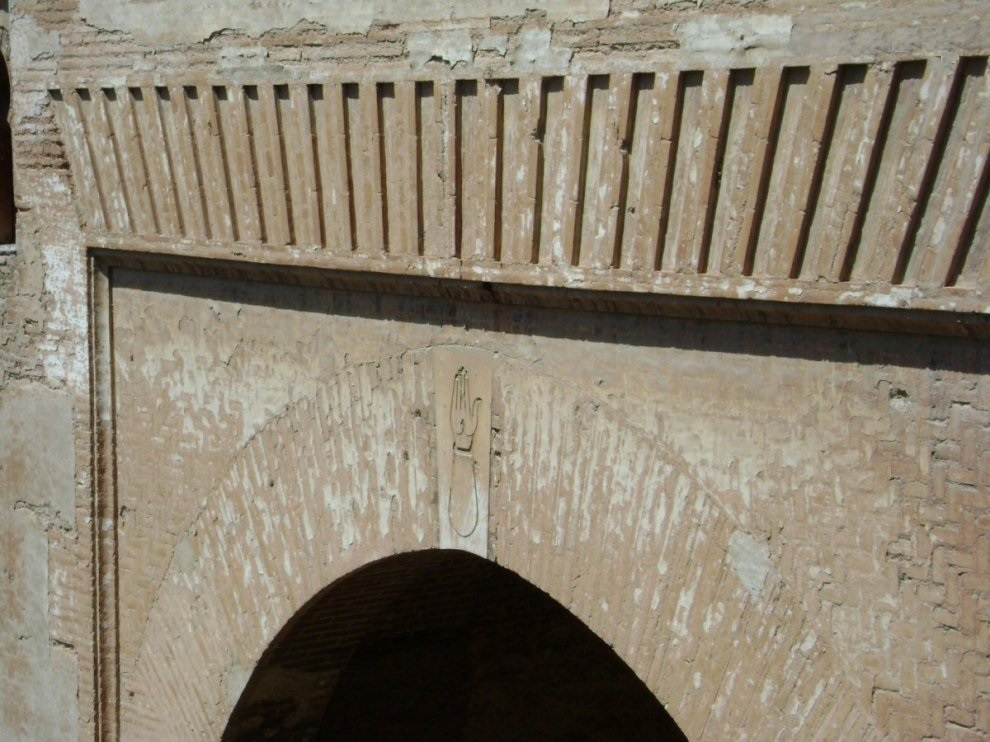dintel-adovelado: (42, 50, 990, 321)
